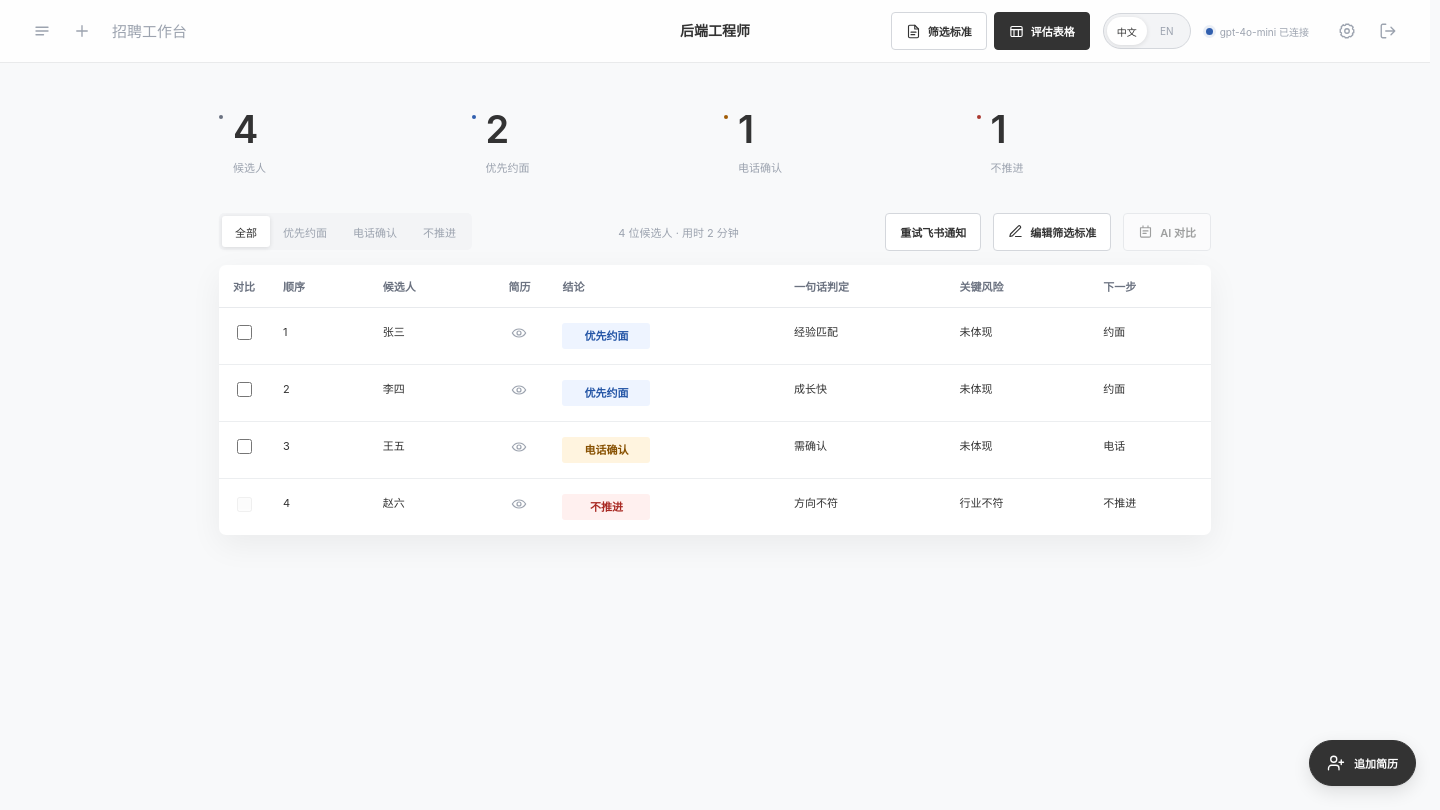
it: results 视图 › 渲染汇总统计与 8 列表格，A/B/C 过滤与对比勾选
Expected: the number of elements with class "summary-stat" is 4, x1=233 y1=106 x2=266 y2=175; x1=486 y1=106 x2=530 y2=175; x1=738 y1=106 x2=782 y2=175; x1=990 y1=106 x2=1024 y2=175
Expected: the text "4" is shown, x1=233 y1=106 x2=258 y2=152
// A/B/C 过滤
Click the button "电话确认": (375, 232) x1=340 y1=216 x2=410 y2=247
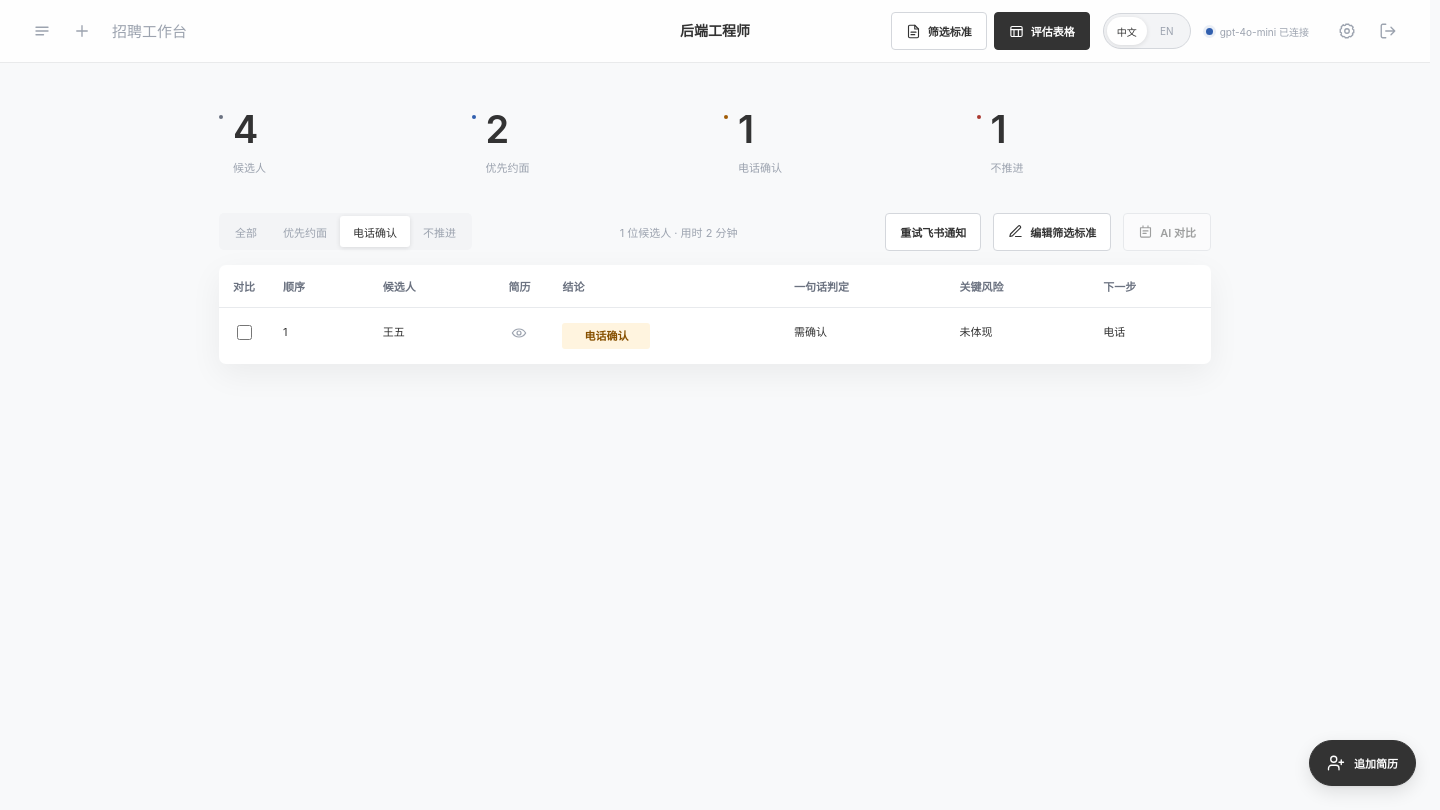
Expected: the text "王五" is shown, x1=369 y1=307 x2=490 y2=364
Now the text "张三" is gone
Now the text with id "resultCount" shows "1 位候选人", box x1=620 y1=226 x2=738 y2=240
Click the button "全部": (246, 232) x1=222 y1=216 x2=270 y2=247
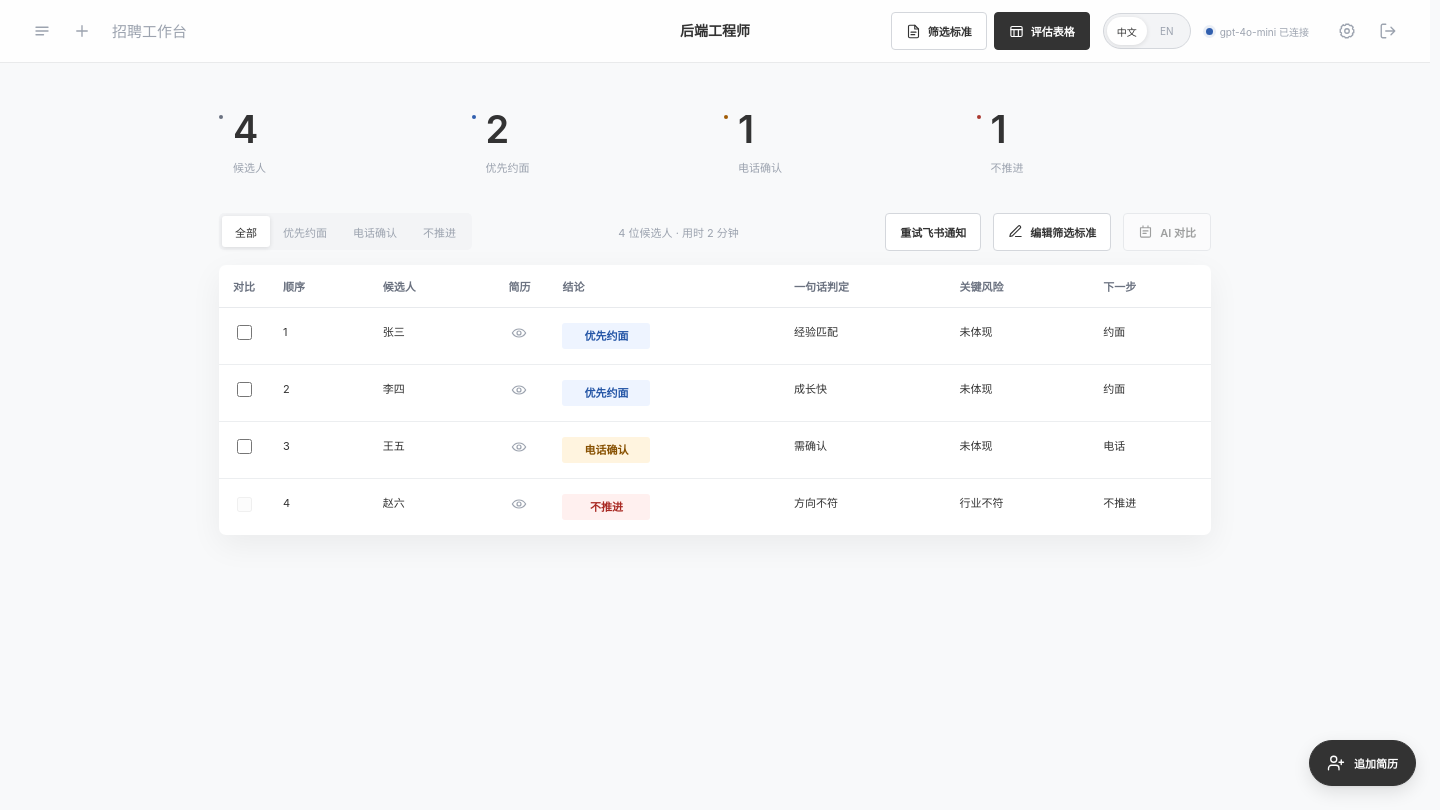
Expected: the button with id "compareButton" is disabled, x1=1123 y1=213 x2=1211 y2=251
Click the checkbox in the row of "张三": (244, 333) x1=236 y1=325 x2=252 y2=340
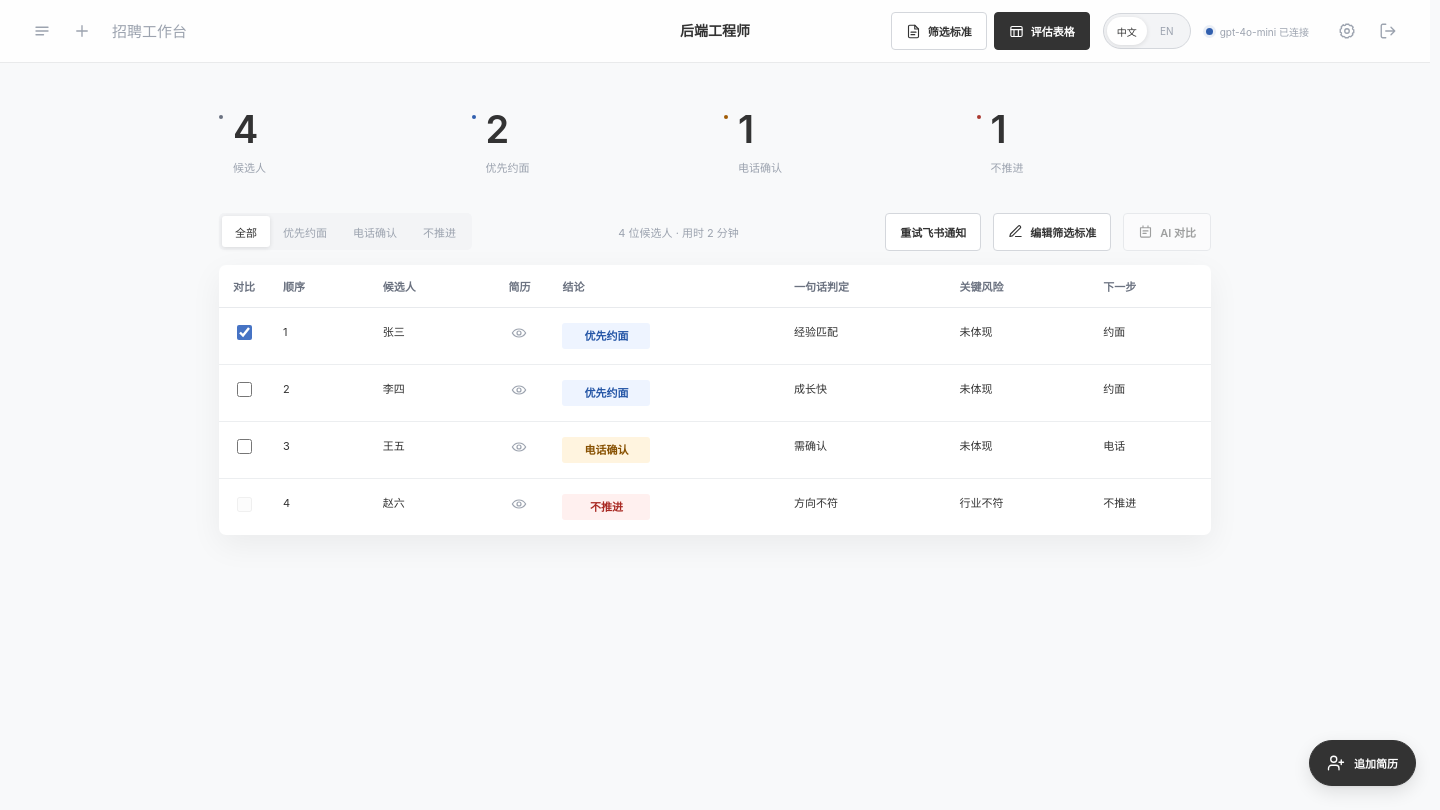
Click the checkbox in the row of "李四": (244, 390) x1=236 y1=382 x2=252 y2=397
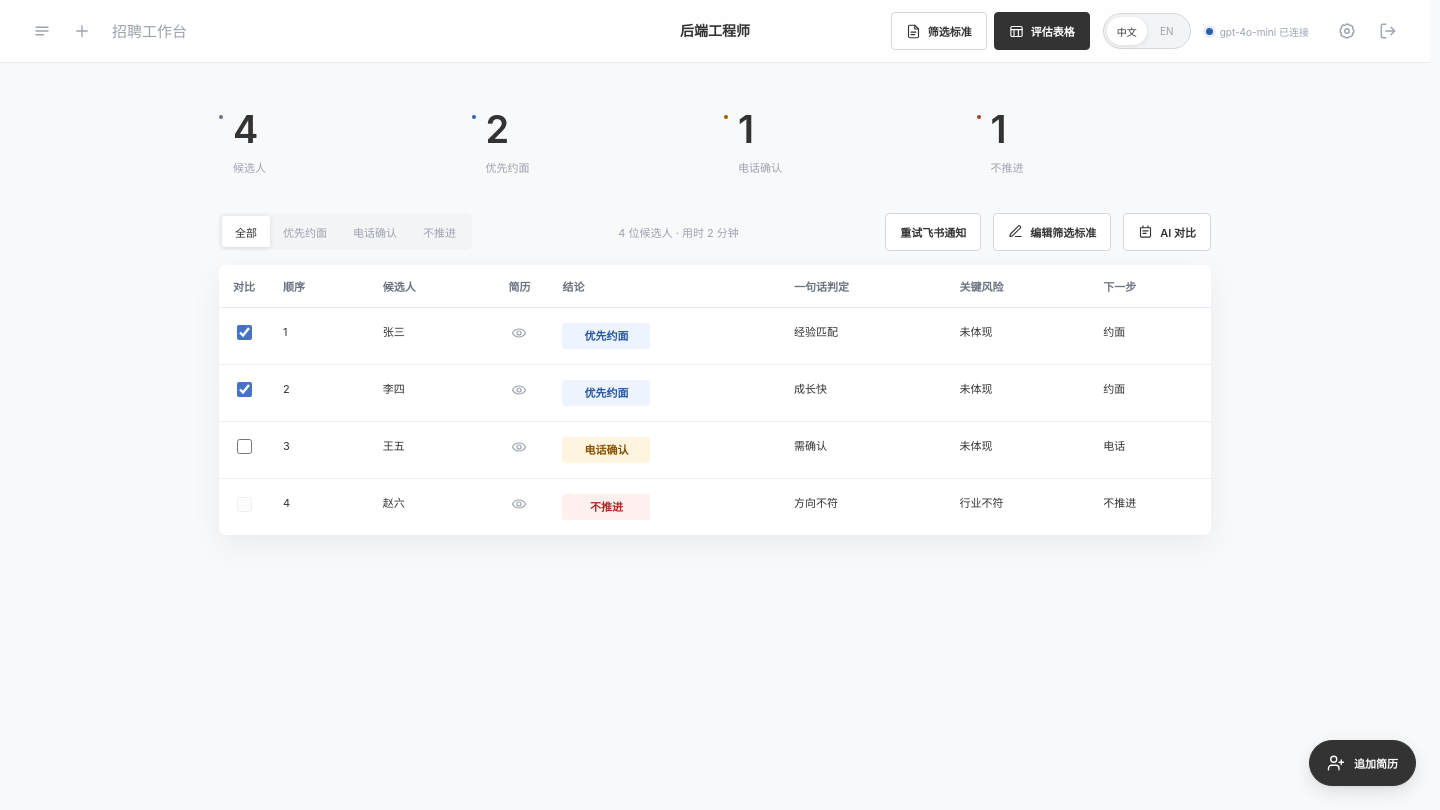
Now the button with id "compareButton" is enabled, box x1=1123 y1=213 x2=1211 y2=251
